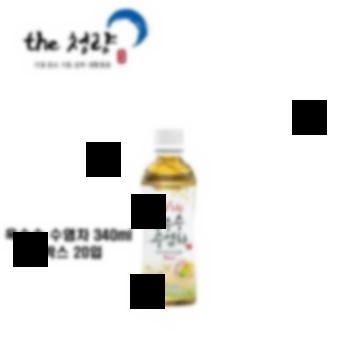oksususuyeomcha: (140, 126, 197, 307)
